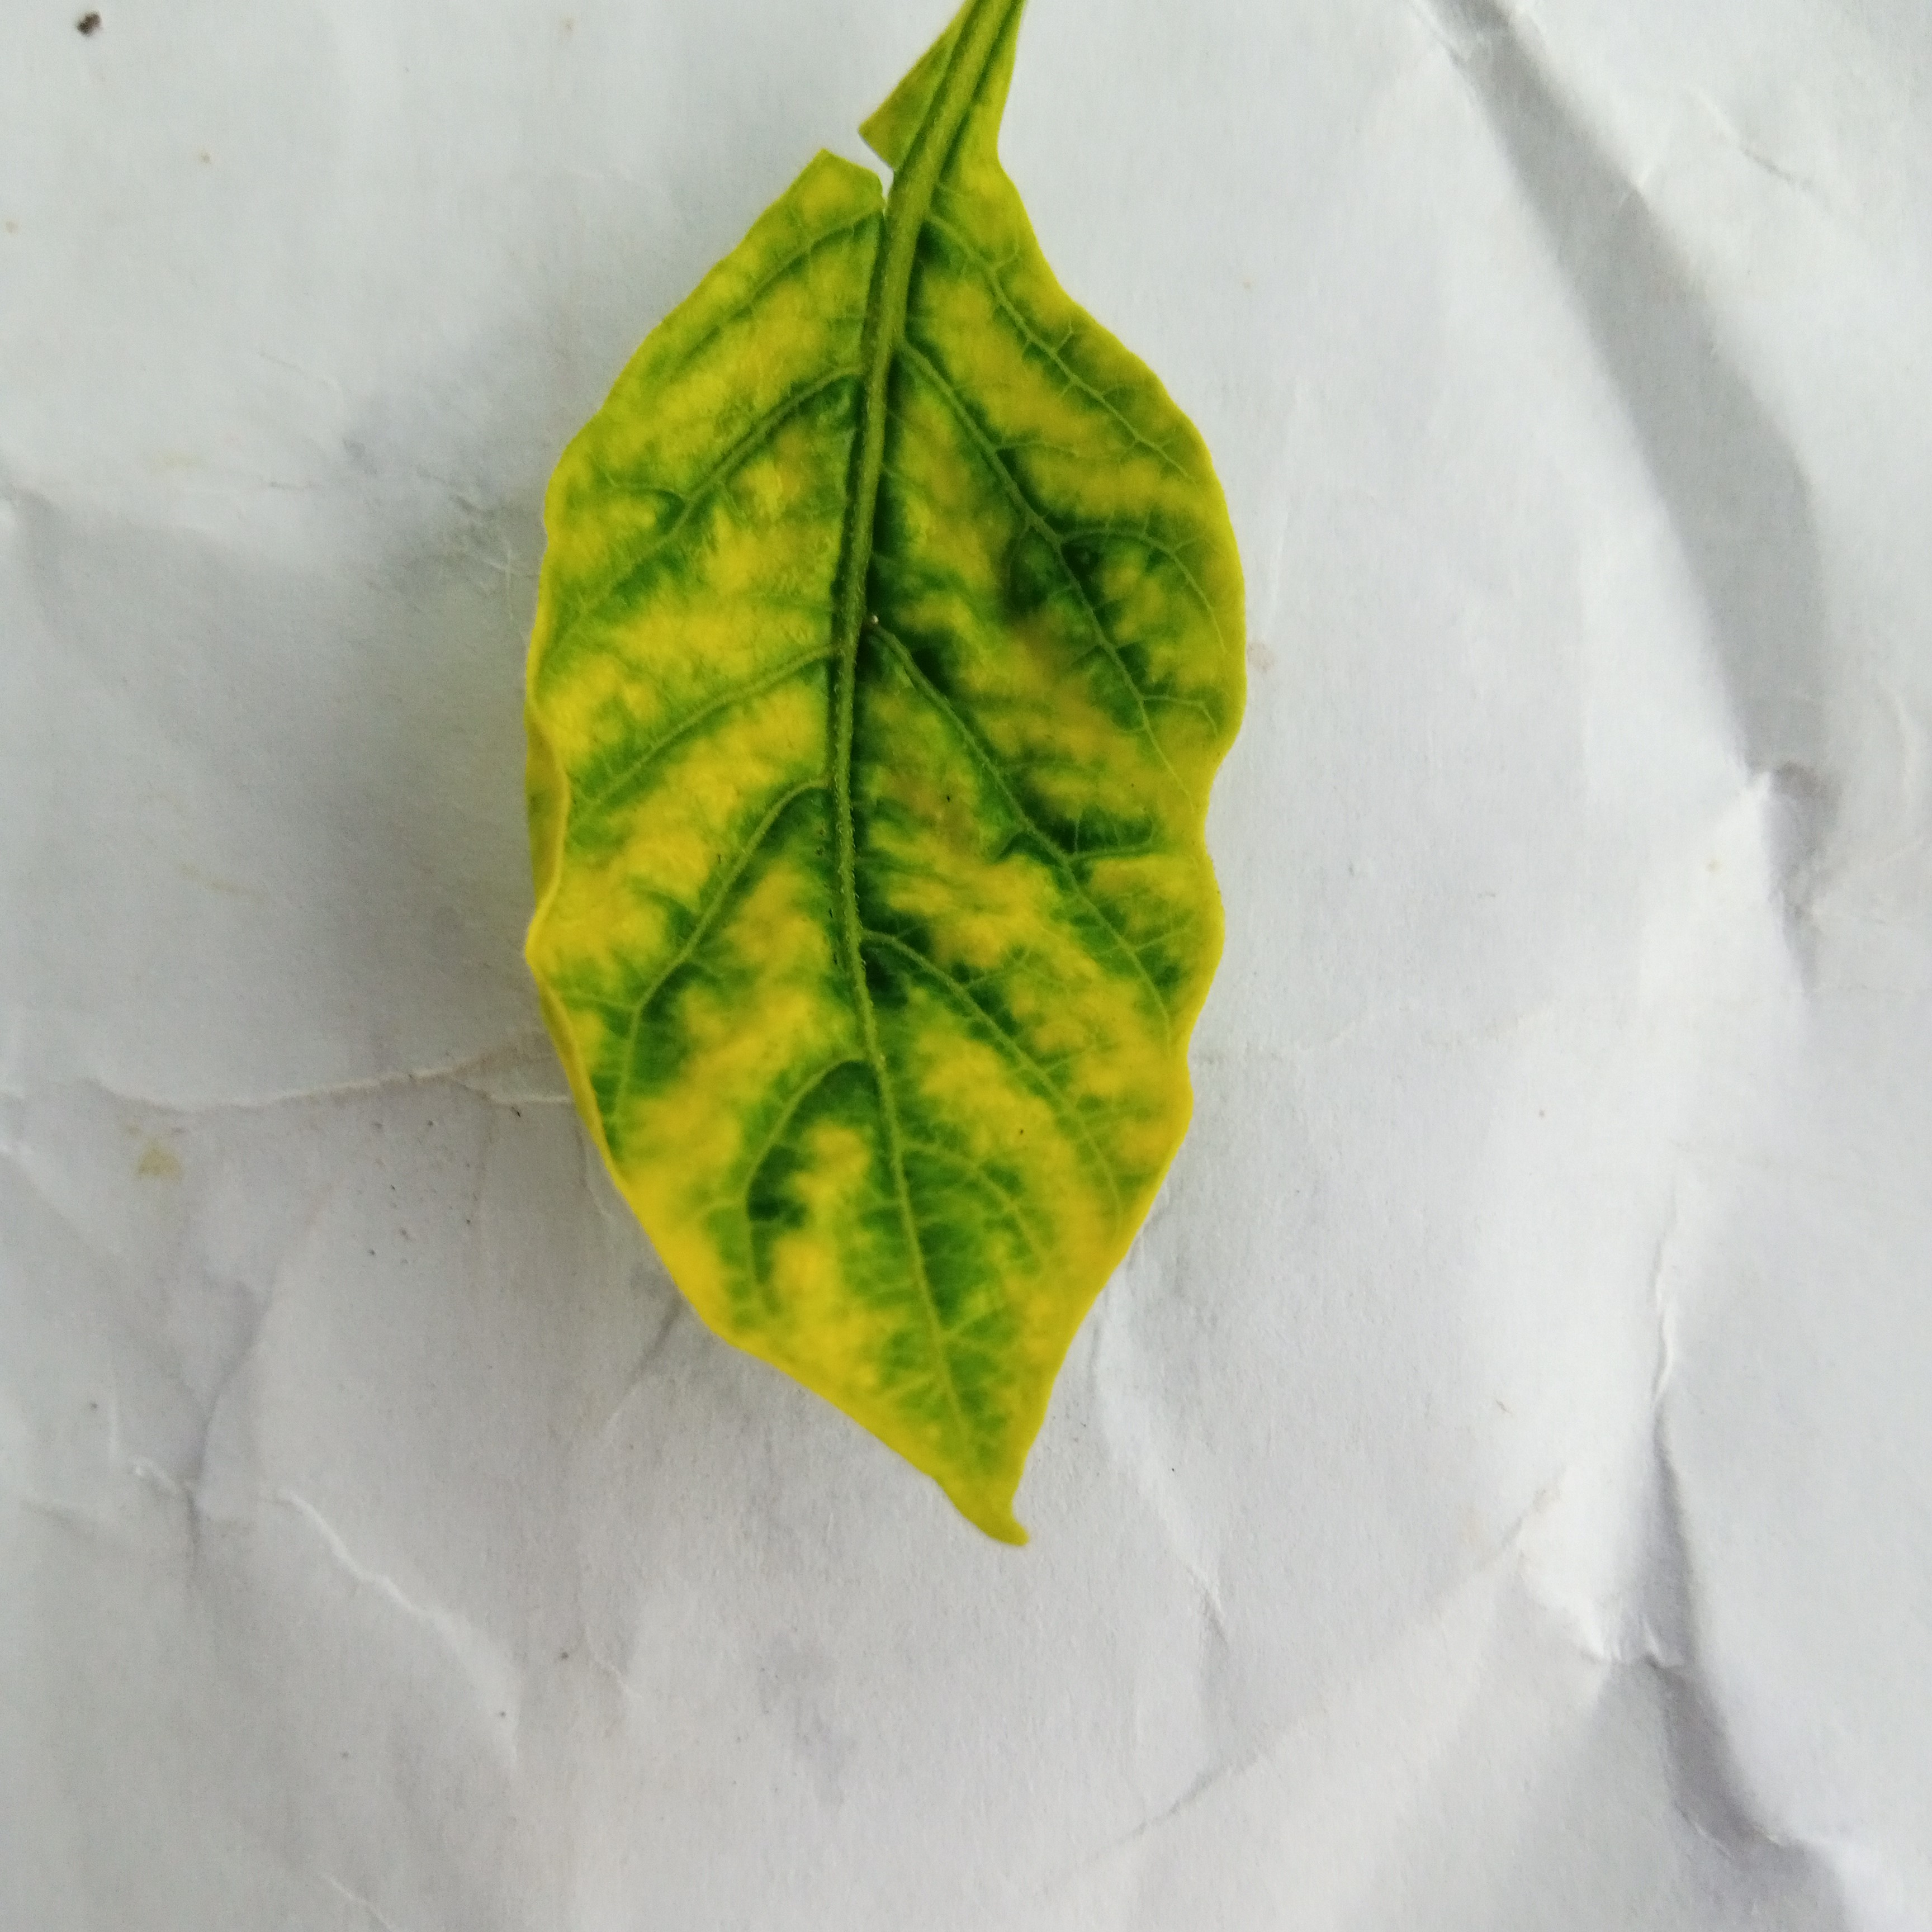Leaf: (292, 57, 1622, 1594)
